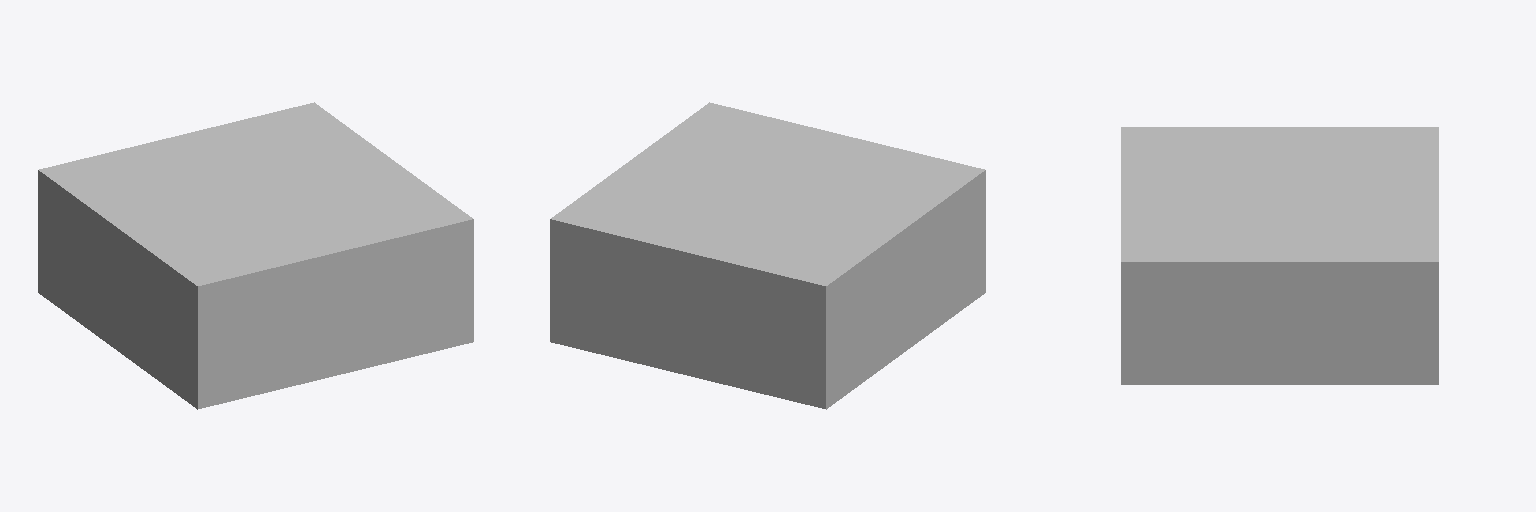
The model's file is Test Room.obj.
3 views of the same model, side by side, from view 1: azimuth 30°, elevation 25°; view 2: azimuth 150°, elevation 25°; view 3: azimuth 270°, elevation 25° (orthographic).
Visible parts, largest first — view 1: pCone4; view 2: pCone4; view 3: pCone4.
Boxes of the visible parts, box(x1,y1,x2,y2) form: pCone4: box(38, 102, 473, 409); pCone4: box(550, 102, 985, 409); pCone4: box(1121, 127, 1438, 384).
Size of the model in its own units: 49.28 by 20.98 by 49.28.